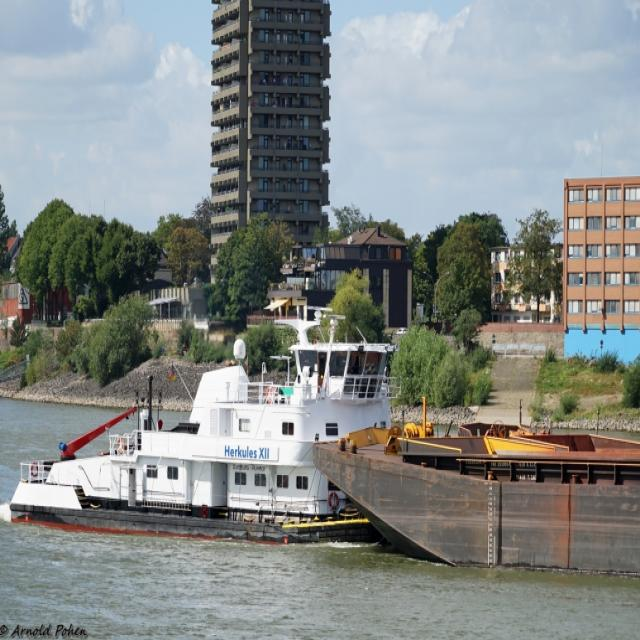tugboat: (4, 304, 450, 558)
